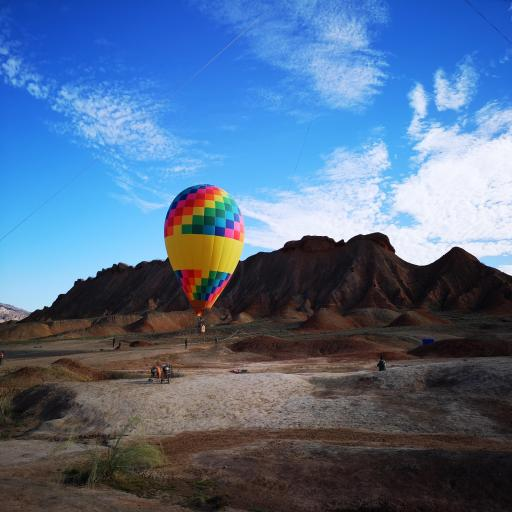hot air ballon: (162, 178, 243, 336)
